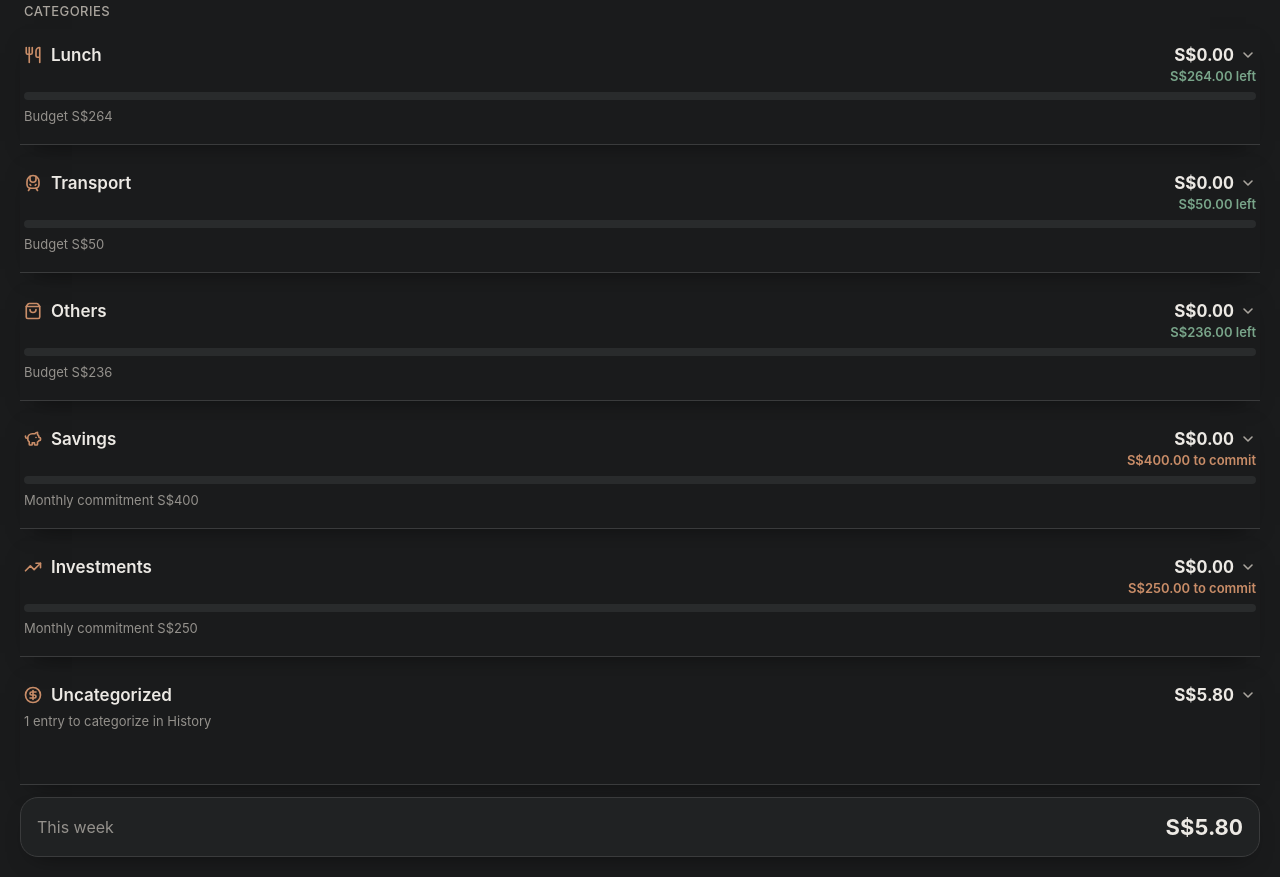
Dashboard category expense history › files an uncategorised entry from Home via a triage chip and shows an Undo toast
(page scrolled)
Step 1. Click the button "Uncategorized S$5.80 1 entry to categorize in History" → (111, 695), box [20,669,1260,783]
(page scrolled)
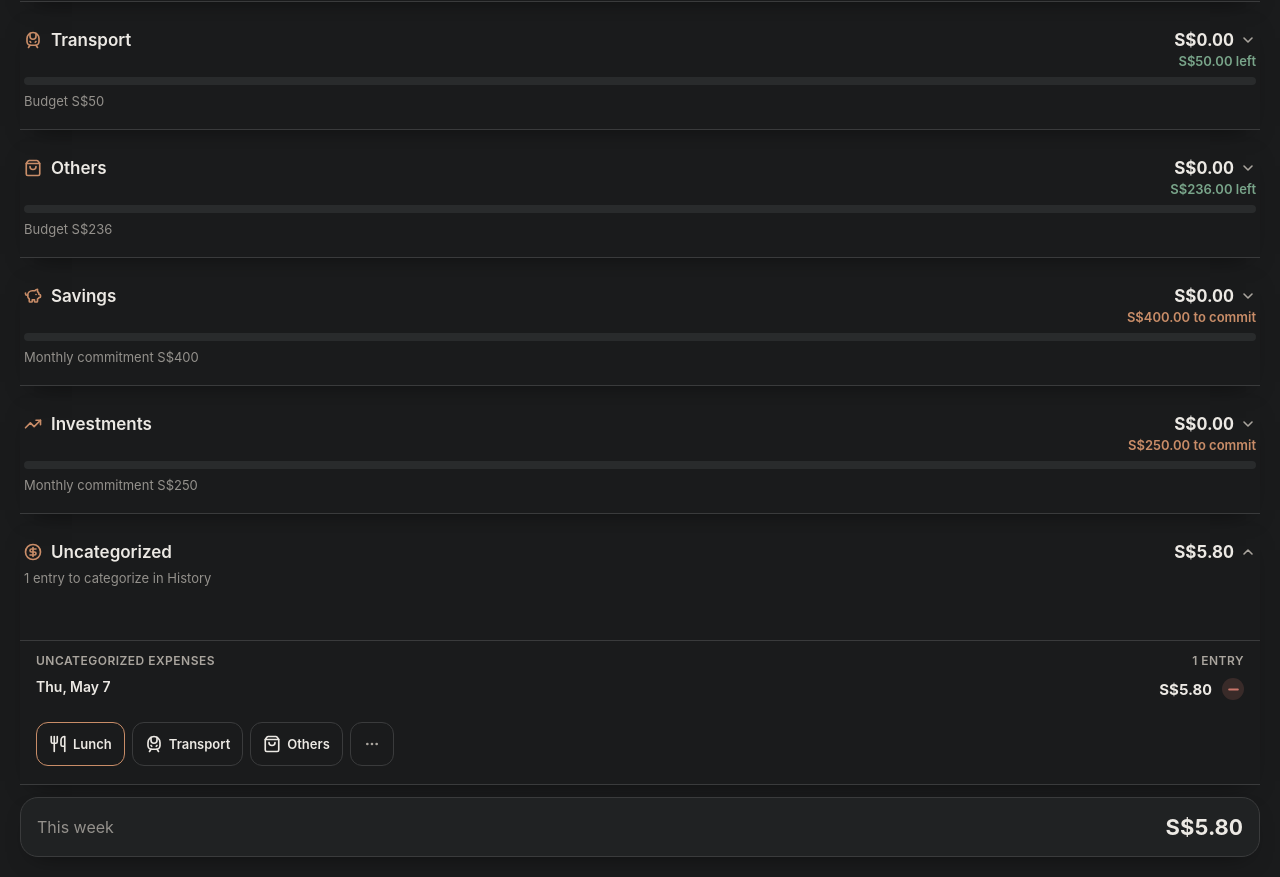
Check: the button "Lunch" is shown
Step 2. Click the button "Lunch" → (80, 744), box [36,722,125,766]
(page scrolled)
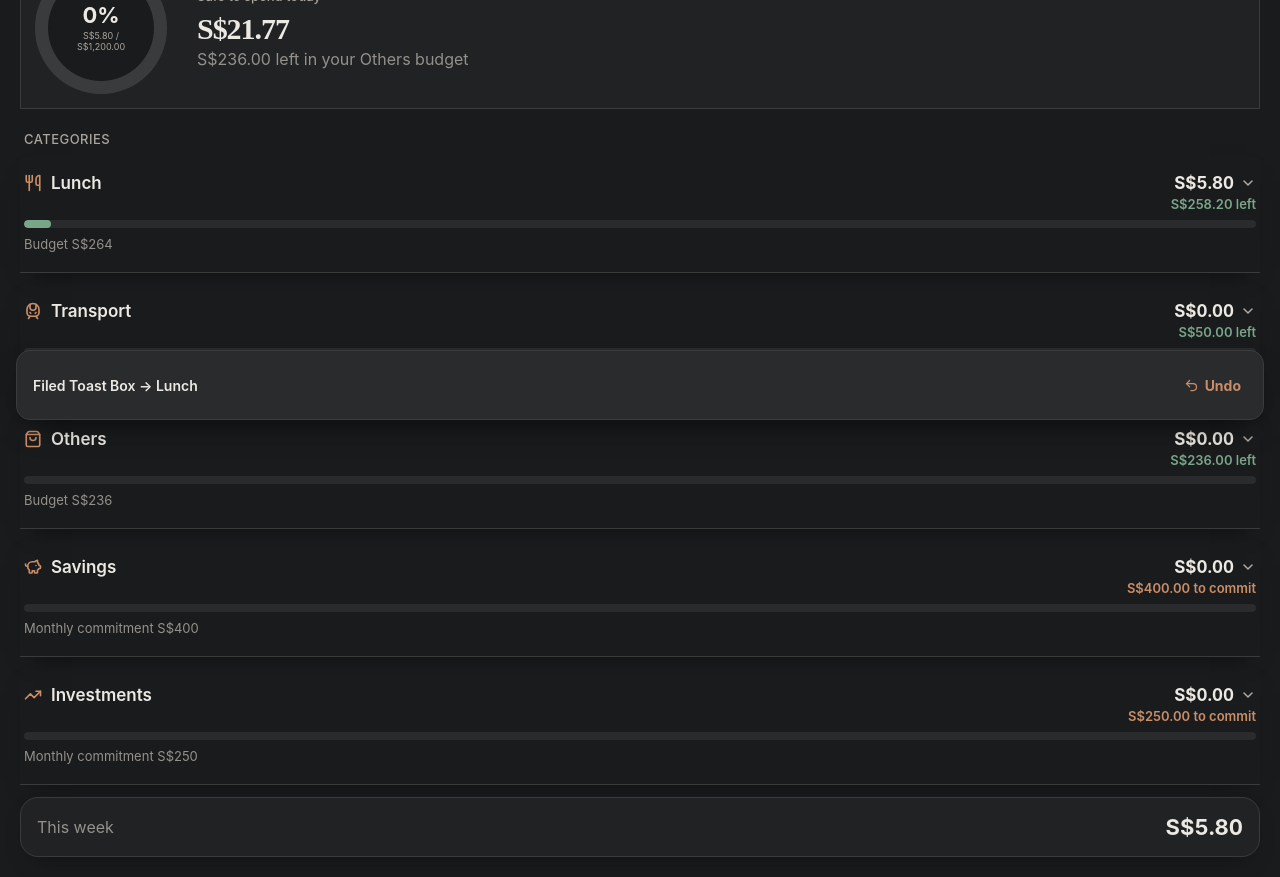
Check: the message with class "save-toast" shows "Filed Toast Box → Lunch", box [33,376,198,394]
